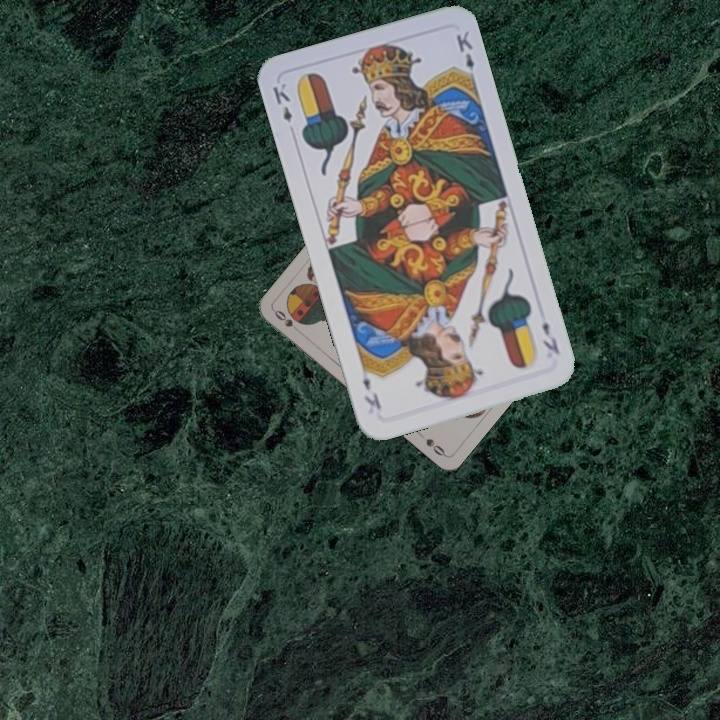EK: (268, 79, 295, 125), (538, 317, 563, 357)
SO: (270, 306, 304, 336)
